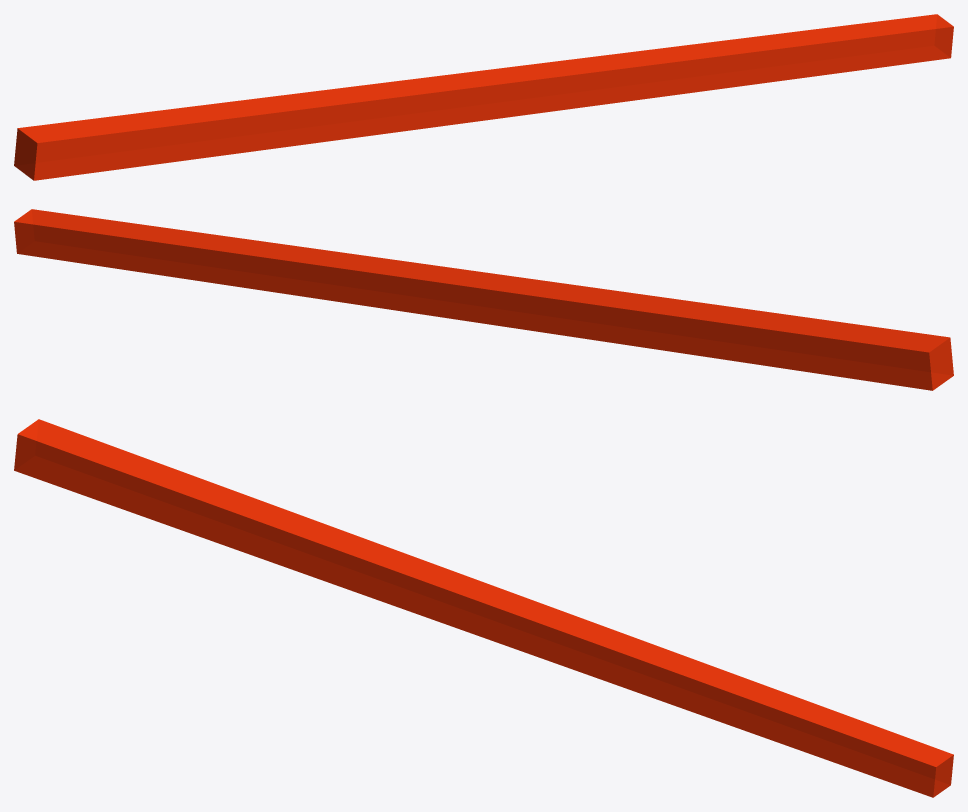
The model's file is Event_421364160_EErechit_0.fbx.
The picture shows the model from 3 angles, top to bottom: view 1: azimuth 30°, elevation 25°; view 2: azimuth 150°, elevation 25°; view 3: azimuth 330°, elevation 25°; orthographic projection.
Parts seen in each view (by area): view 1: Model; view 2: Model; view 3: Model.
Boxes of the visible parts, bbox=[...] form: Model: bbox=[14, 14, 953, 180]; Model: bbox=[14, 209, 953, 390]; Model: bbox=[14, 419, 953, 797].
Size of the model in its own units: 2.24 by 0.3081 by 0.1148.
